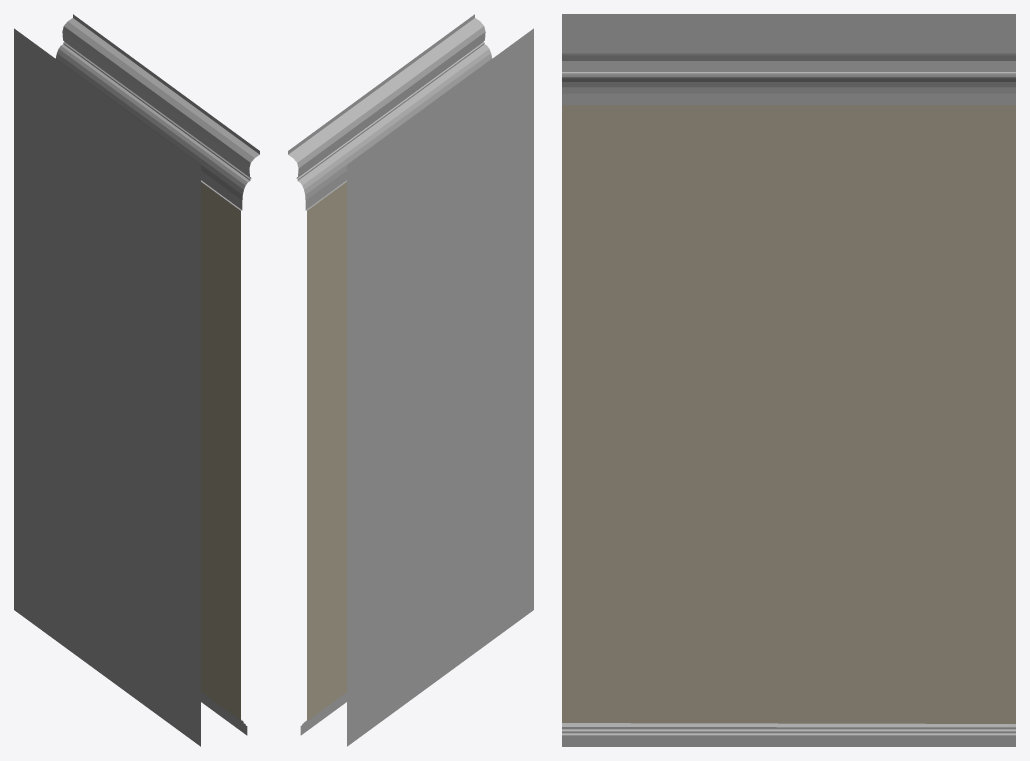
The model's file is 2x3-5 pared.fbx.
3 renders of one model, left to right at view 1: azimuth 30°, elevation 25°; view 2: azimuth 150°, elevation 25°; view 3: azimuth 270°, elevation 25°, orthographic. The views are drawn at different scales.
Visible parts, largest first — view 1: 2x3'5 pared; view 2: 2x3'5 pared; view 3: 2x3'5 pared.
Part boxes in pixels (box(x1,y1,x2,y2)): 2x3'5 pared: box(14, 14, 259, 746); 2x3'5 pared: box(288, 14, 533, 746); 2x3'5 pared: box(562, 14, 1015, 746).
Bounding box in the file's own units: 37 × 350 × 204.
